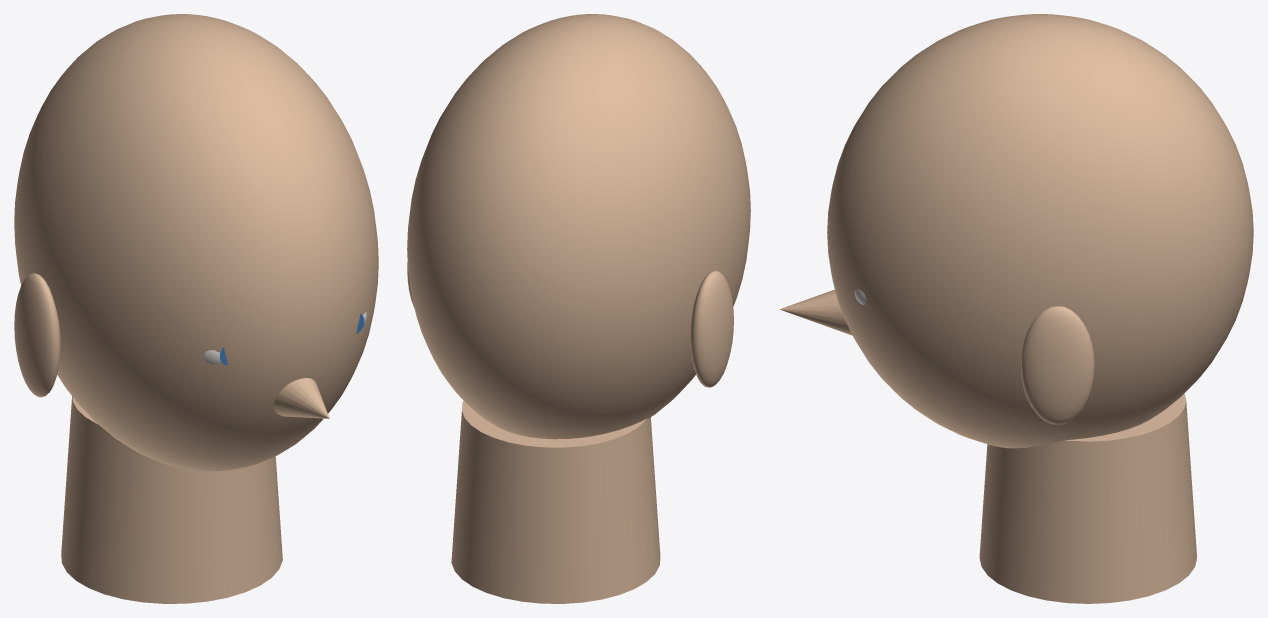
The model's file is provisorio.glb.
3 renders of one model, left to right at view 1: azimuth 30°, elevation 25°; view 2: azimuth 150°, elevation 25°; view 3: azimuth 270°, elevation 25°, orthographic. The views are drawn at different scales.
Visible parts, largest first — view 1: cabeza; view 2: cabeza; view 3: cabeza.
Part boxes in pixels (box(x1,y1,x2,y2)): cabeza: box(14, 14, 378, 603); cabeza: box(407, 14, 750, 603); cabeza: box(779, 14, 1253, 603).
Size of the model in its own units: 0.17 by 0.27 by 0.218.
